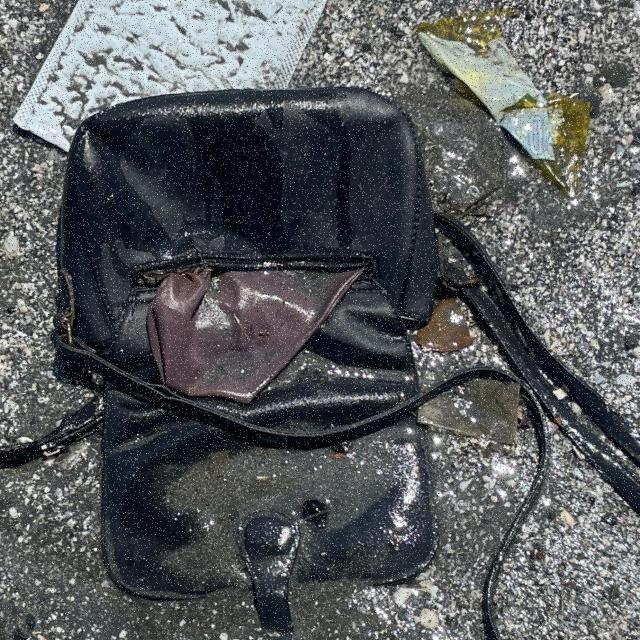textile_waste: (52, 82, 442, 602)
